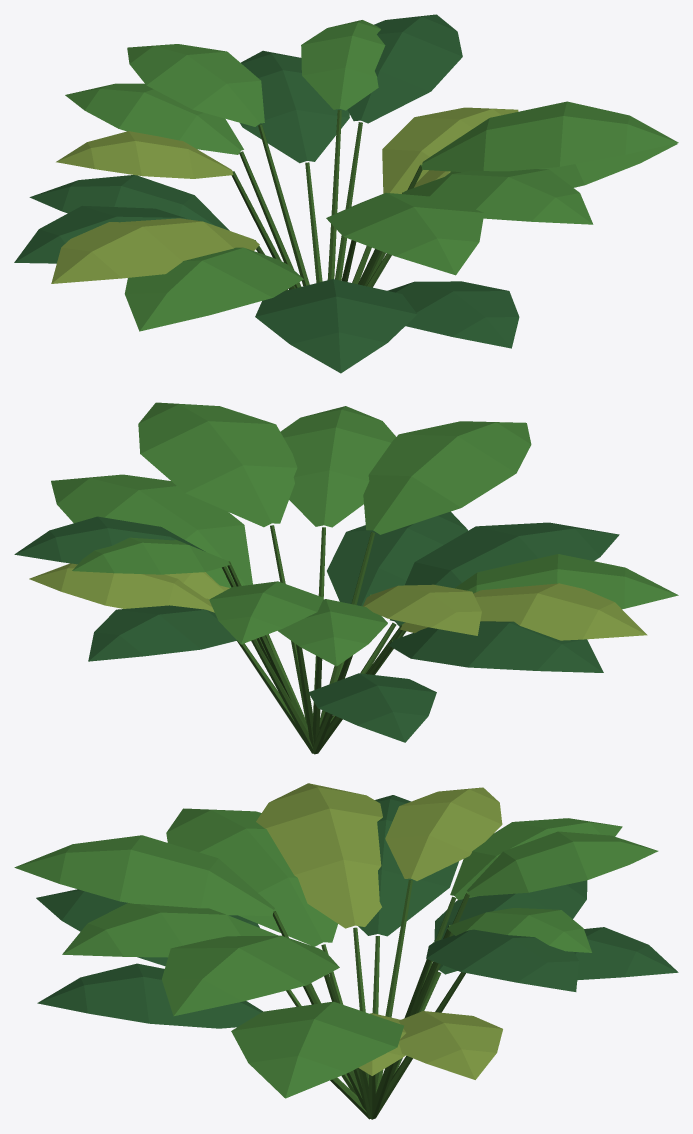
File: jungle_groundcover.glb
3 views of the same model, one above another, from view 1: azimuth 30°, elevation 25°; view 2: azimuth 150°, elevation 25°; view 3: azimuth 270°, elevation 25° (orthographic). The views are drawn at different scales.
Parts seen in each view (by area): view 1: jungle_groundcover; view 2: jungle_groundcover; view 3: jungle_groundcover.
Boxes of the visible parts, <box> form: jungle_groundcover: <box>14,14,678,373</box>; jungle_groundcover: <box>14,402,678,754</box>; jungle_groundcover: <box>14,783,678,1119</box>.
Bounding box in the file's own units: 0.8956 × 0.3442 × 0.803.
